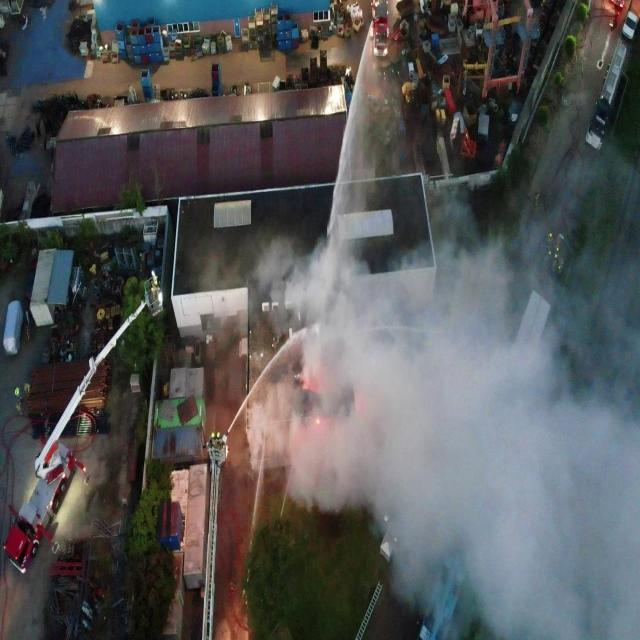Fire: (316, 418, 320, 424)
Smoke: (245, 147, 639, 640), (190, 221, 294, 352)
